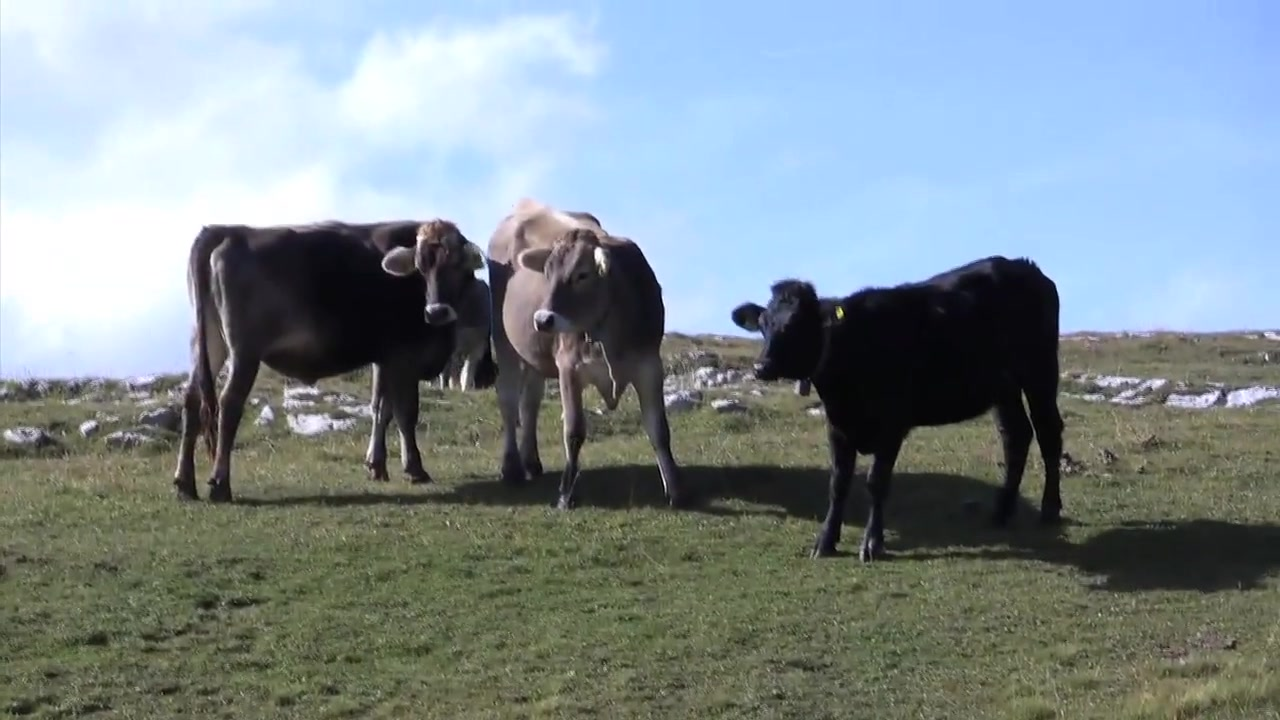cow: (735, 256, 1071, 567)
